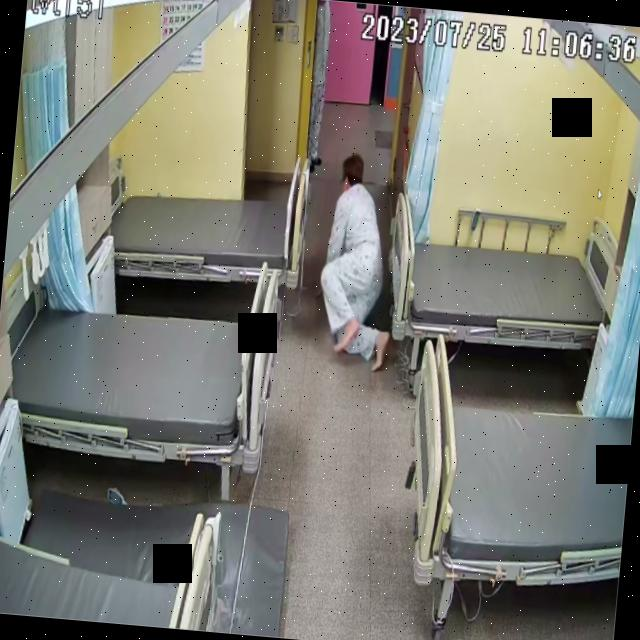bed: (398, 333, 638, 596), (2, 291, 278, 466), (381, 219, 624, 358), (108, 174, 306, 288)
fall: (301, 151, 408, 376)
patient: (302, 148, 408, 374)
